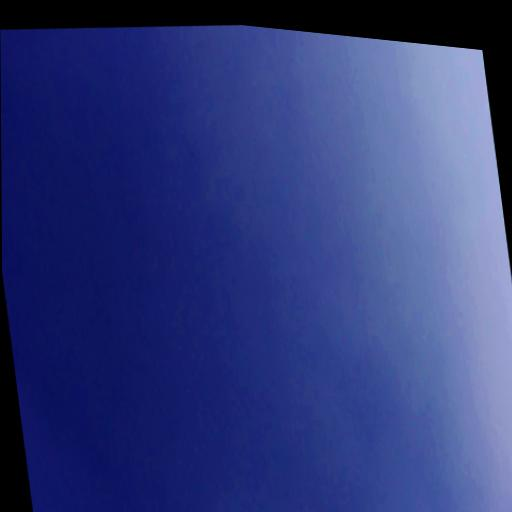drones: (189, 150, 196, 158)
